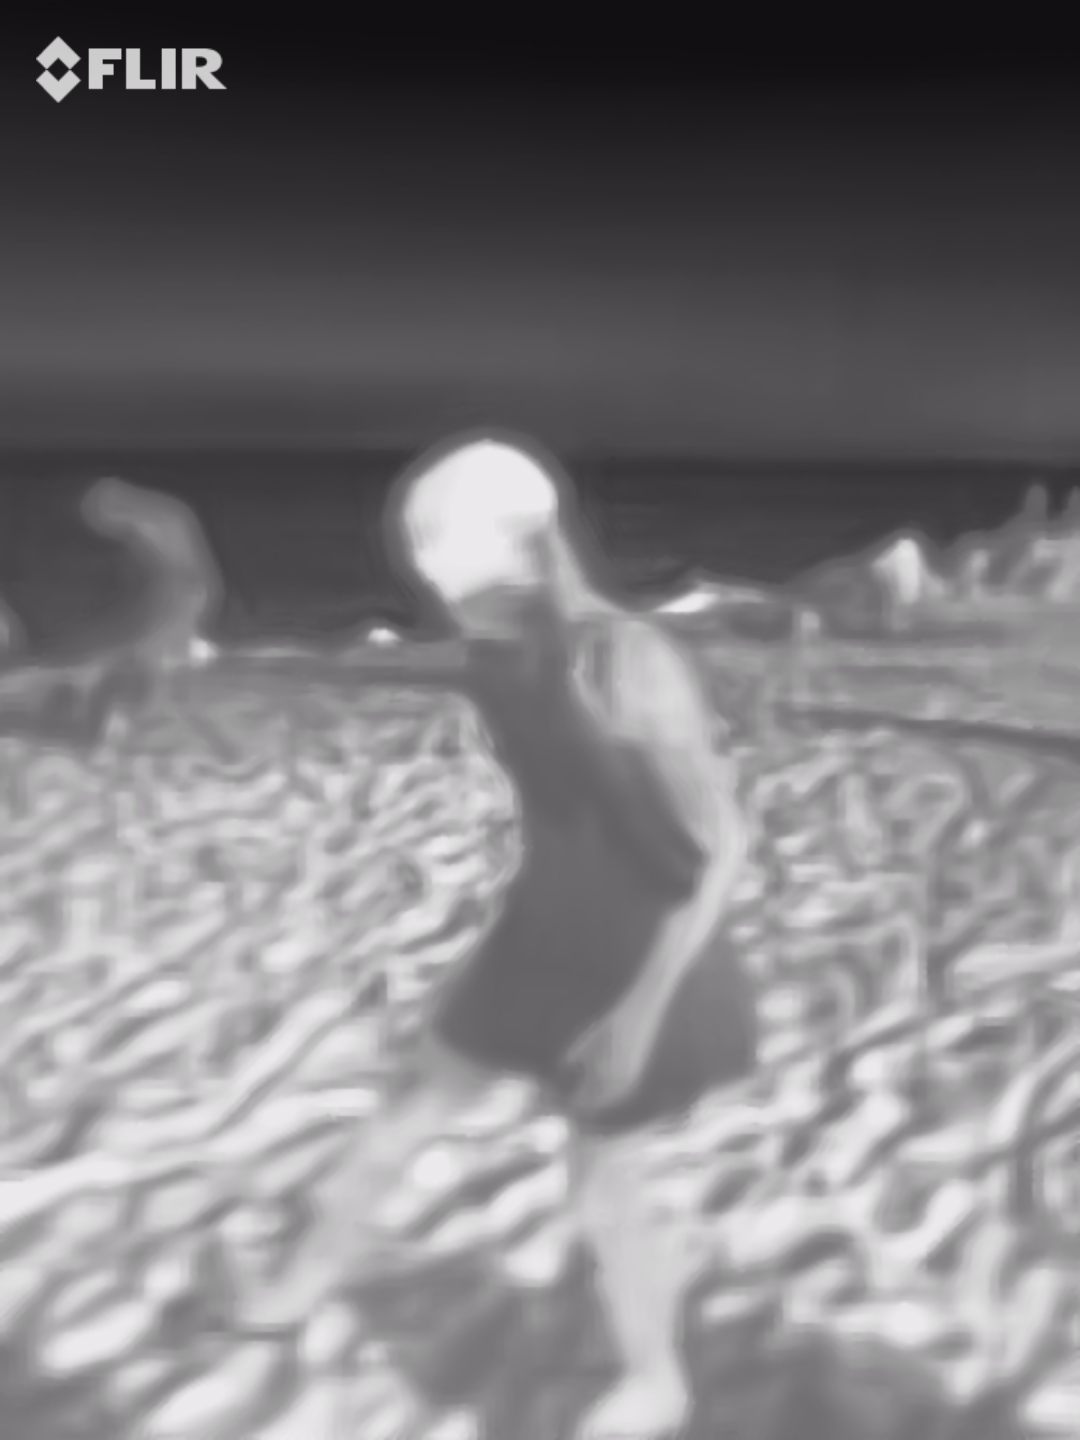head: (382, 427, 595, 642)
